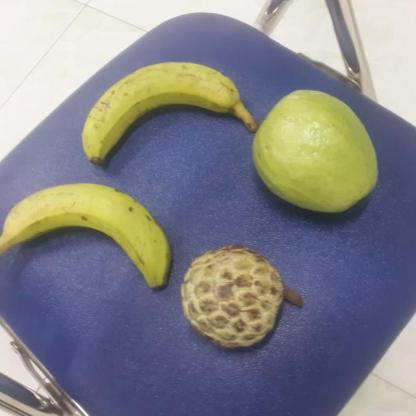annona: (182, 244, 302, 350)
banana: (0, 182, 172, 294), (86, 64, 258, 167)
guava: (252, 96, 382, 212)
